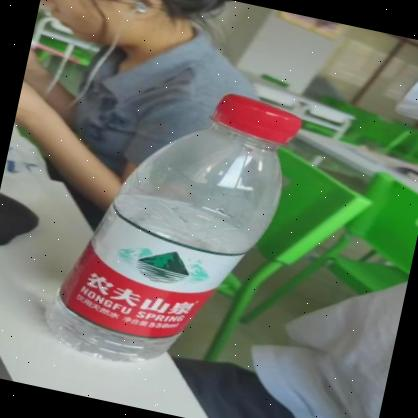bottle: (34, 67, 313, 391)
cap: (204, 78, 314, 156)
label: (62, 193, 254, 365)
